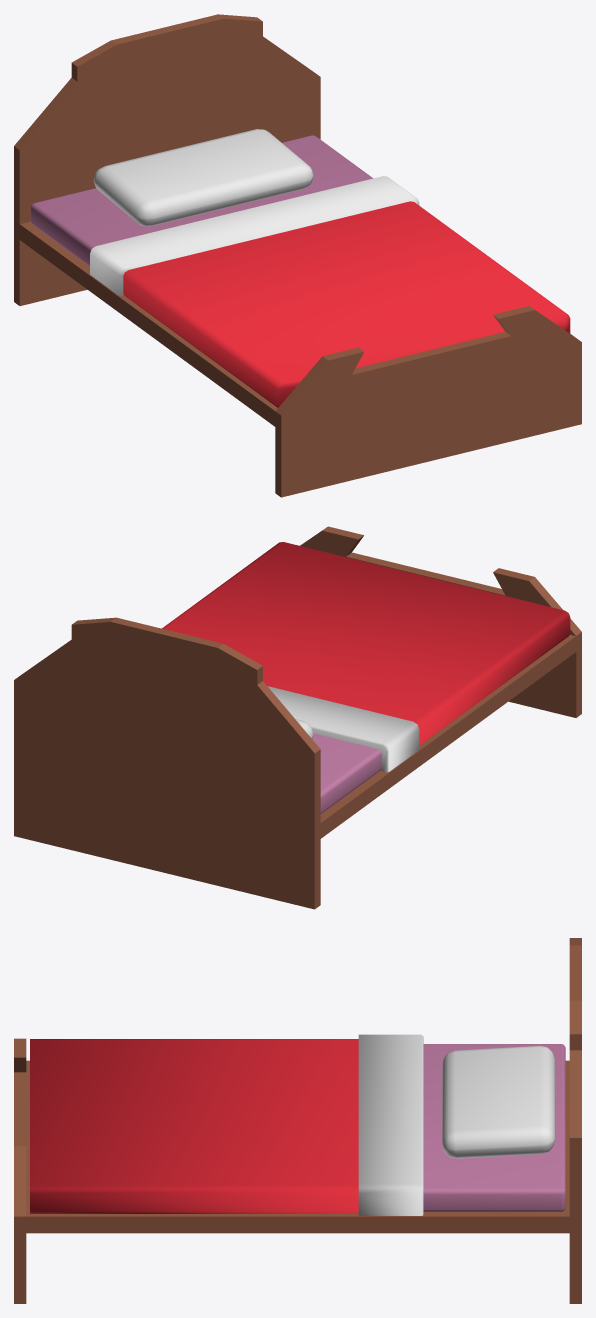
File: Bed.fbx
3 renders of one model, top to bottom at view 1: azimuth 30°, elevation 25°; view 2: azimuth 150°, elevation 25°; view 3: azimuth 270°, elevation 25°, orthographic. The views are drawn at different scales.
Visible parts, largest first — view 1: Bed, Sheet, Pillow, Madras; view 2: Bed, Sheet, Madras; view 3: Sheet, Bed, Madras, Pillow.
Boxes of the visible parts, x1=… form: Bed: x1=14, y1=14, x2=581, y2=497; Sheet: x1=90, y1=176, x2=570, y2=407; Pillow: x1=93, y1=129, x2=313, y2=226; Madras: x1=30, y1=135, x2=373, y2=266; Bed: x1=14, y1=526, x2=581, y2=909; Sheet: x1=162, y1=542, x2=570, y2=772; Madras: x1=312, y1=733, x2=381, y2=813; Sheet: x1=30, y1=1034, x2=423, y2=1215; Bed: x1=14, y1=938, x2=581, y2=1303; Madras: x1=423, y1=1044, x2=565, y2=1211; Pillow: x1=442, y1=1045, x2=554, y2=1158.
Bounding box in the file's own units: 1.5 × 1.13 × 2.3.
